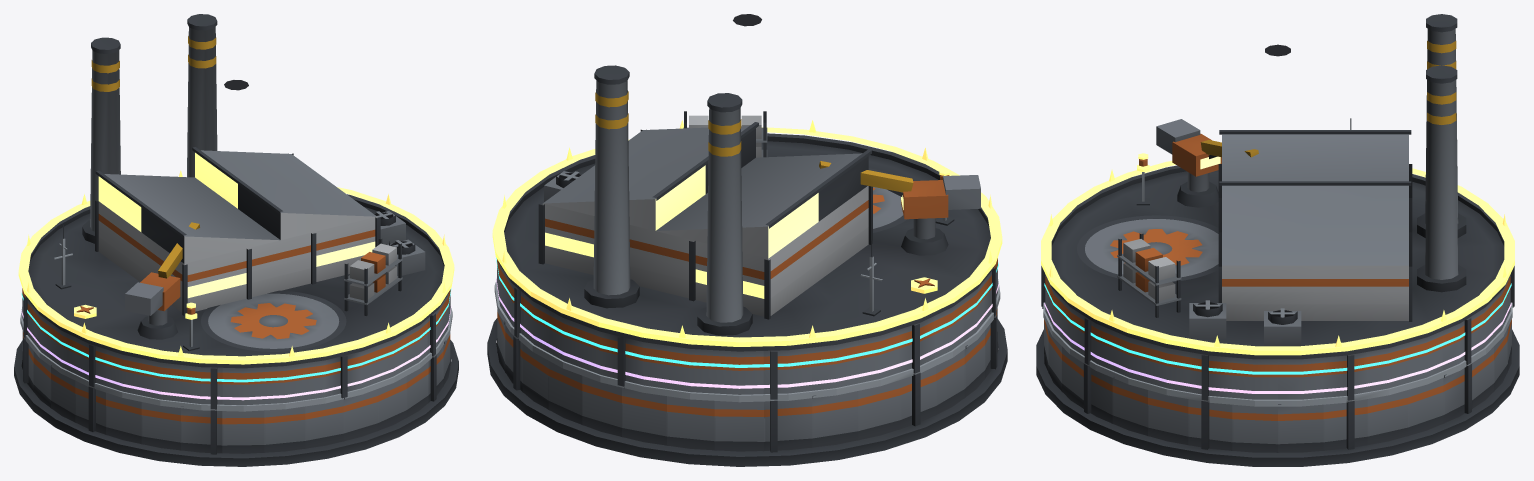
File: workshop_s_far.glb
3 renders of one model, left to right at view 1: azimuth 30°, elevation 25°; view 2: azimuth 150°, elevation 25°; view 3: azimuth 270°, elevation 25°, orthographic. The views are drawn at different scales.
Parts seen in each view (by area): view 1: Roof, Base, L5, L2, L3, L4; view 2: Roof, Base, L5, L2, L3, L4; view 3: Roof, Base, L5, L2, L3, L4.
Boxes of the visible parts, left/top/right/bottom form: Roof: left=22, top=14, right=450, bottom=409; Base: left=14, top=331, right=458, bottom=466; L5: left=18, top=170, right=454, bottom=364; L2: left=20, top=224, right=452, bottom=411; L3: left=21, top=288, right=451, bottom=382; L4: left=21, top=305, right=451, bottom=400; Roof: left=497, top=14, right=997, bottom=399; Base: left=487, top=308, right=1007, bottom=466; L5: left=492, top=120, right=1002, bottom=346; L2: left=494, top=241, right=1000, bottom=402; L3: left=496, top=258, right=998, bottom=367; L4: left=496, top=277, right=998, bottom=388; Roof: left=1041, top=14, right=1514, bottom=400; Base: left=1036, top=306, right=1519, bottom=466; L5: left=1041, top=153, right=1514, bottom=355; L2: left=1043, top=118, right=1512, bottom=406; L3: left=1044, top=283, right=1511, bottom=374; L4: left=1044, top=302, right=1511, bottom=393.
Bounding box in the file's own units: 11.74 × 8.42 × 11.74.
